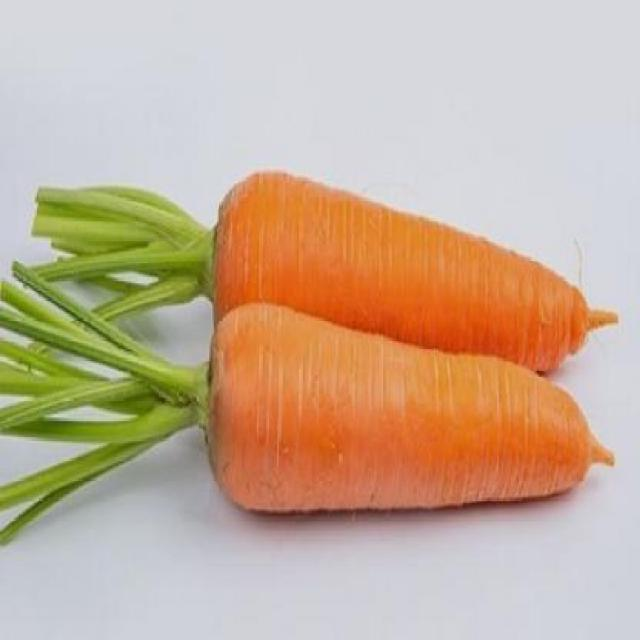carrot: (0, 265, 612, 542), (32, 172, 595, 371)
